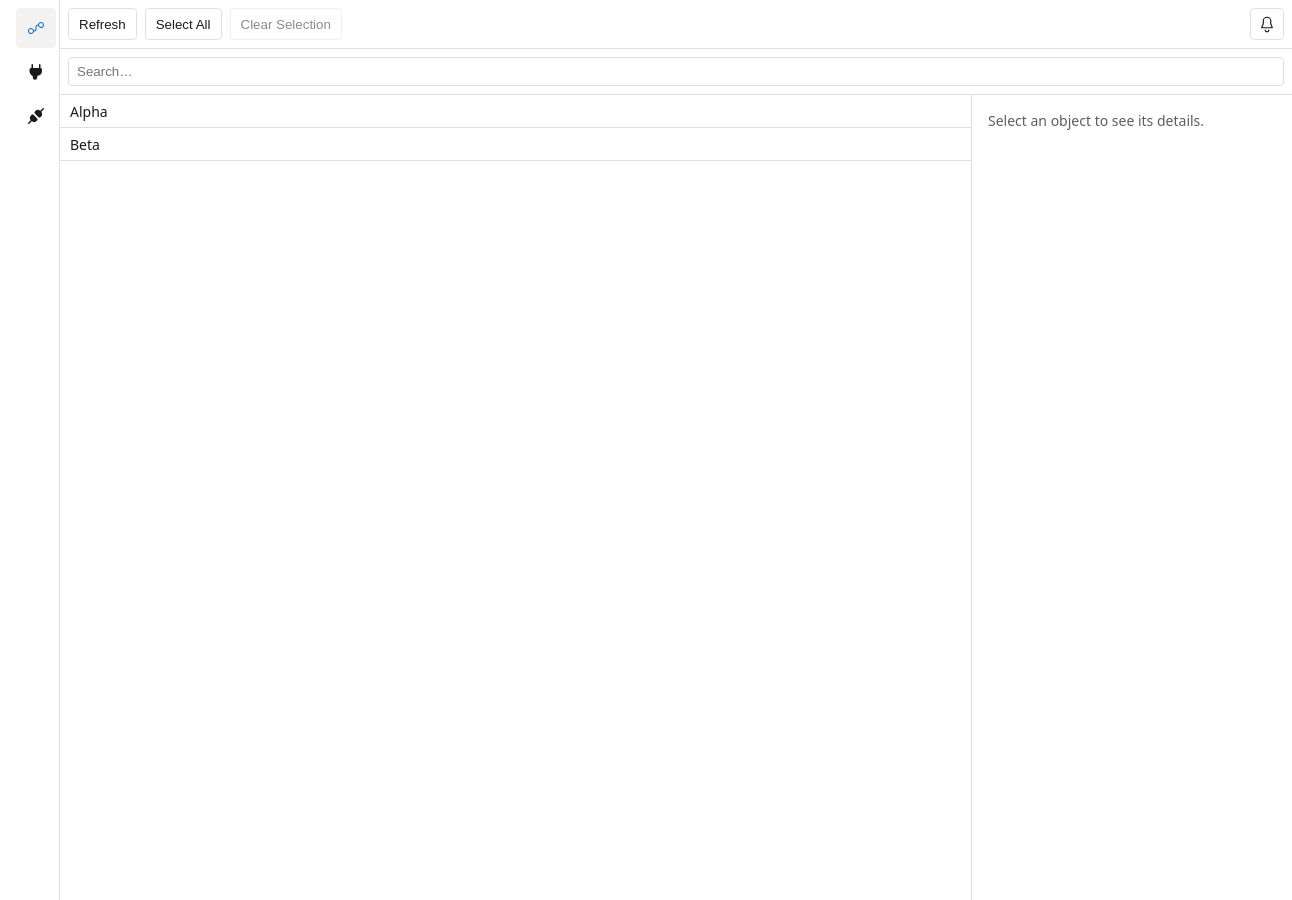
Scenario: Shell › shows details for a single selected object (US2)
This screenshot has width=1292, height=900.
Click the option "Alpha".
click(89, 111)  # box [60,95,971,128]
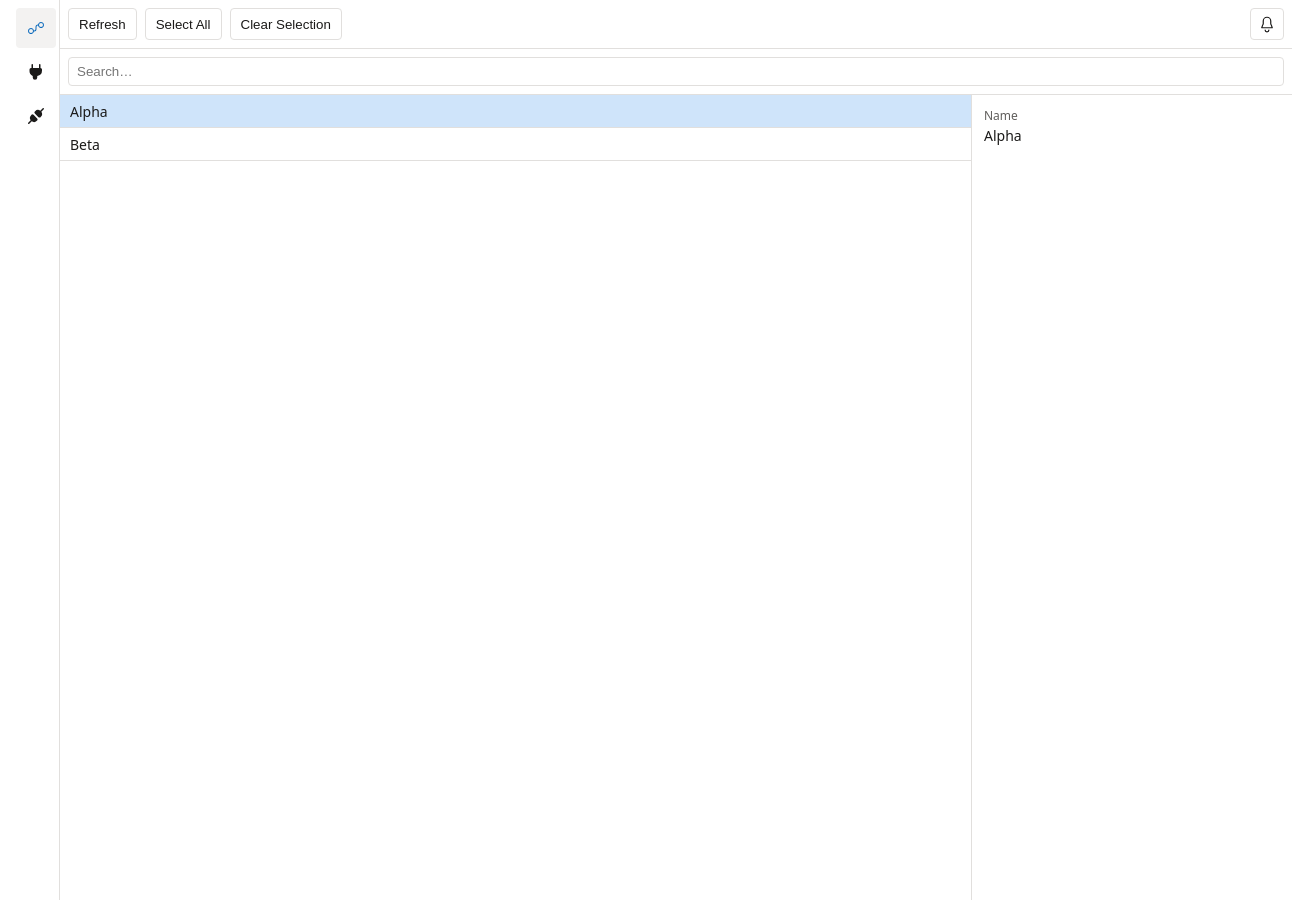
Result: the text "Name" is shown at [984,107,1018,124]
